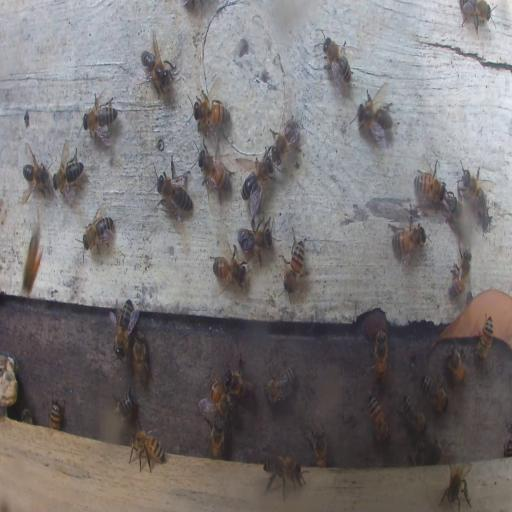nonpollenbee: (389, 206, 427, 272), (154, 159, 192, 225), (358, 88, 396, 149), (140, 34, 177, 95), (260, 451, 307, 498), (455, 162, 491, 219), (438, 458, 474, 511), (268, 109, 301, 166), (126, 428, 166, 474), (320, 34, 353, 88), (53, 144, 84, 200), (80, 94, 119, 138), (236, 219, 274, 263), (200, 146, 232, 198), (281, 230, 307, 294), (212, 248, 249, 289), (242, 152, 274, 198), (22, 147, 50, 199), (113, 299, 134, 360), (414, 164, 446, 202), (420, 373, 450, 413), (367, 392, 390, 444), (82, 213, 114, 250), (459, 1, 495, 33), (400, 394, 427, 436), (265, 366, 295, 402), (451, 246, 472, 297), (208, 379, 234, 419), (224, 366, 254, 400), (192, 101, 231, 126), (474, 316, 494, 363), (132, 329, 148, 386), (373, 328, 388, 387), (445, 346, 468, 382), (114, 386, 135, 423), (206, 417, 224, 457), (310, 425, 327, 466), (408, 441, 426, 465), (49, 400, 62, 430), (21, 407, 33, 422)
pollenbee: (21, 220, 46, 296)
